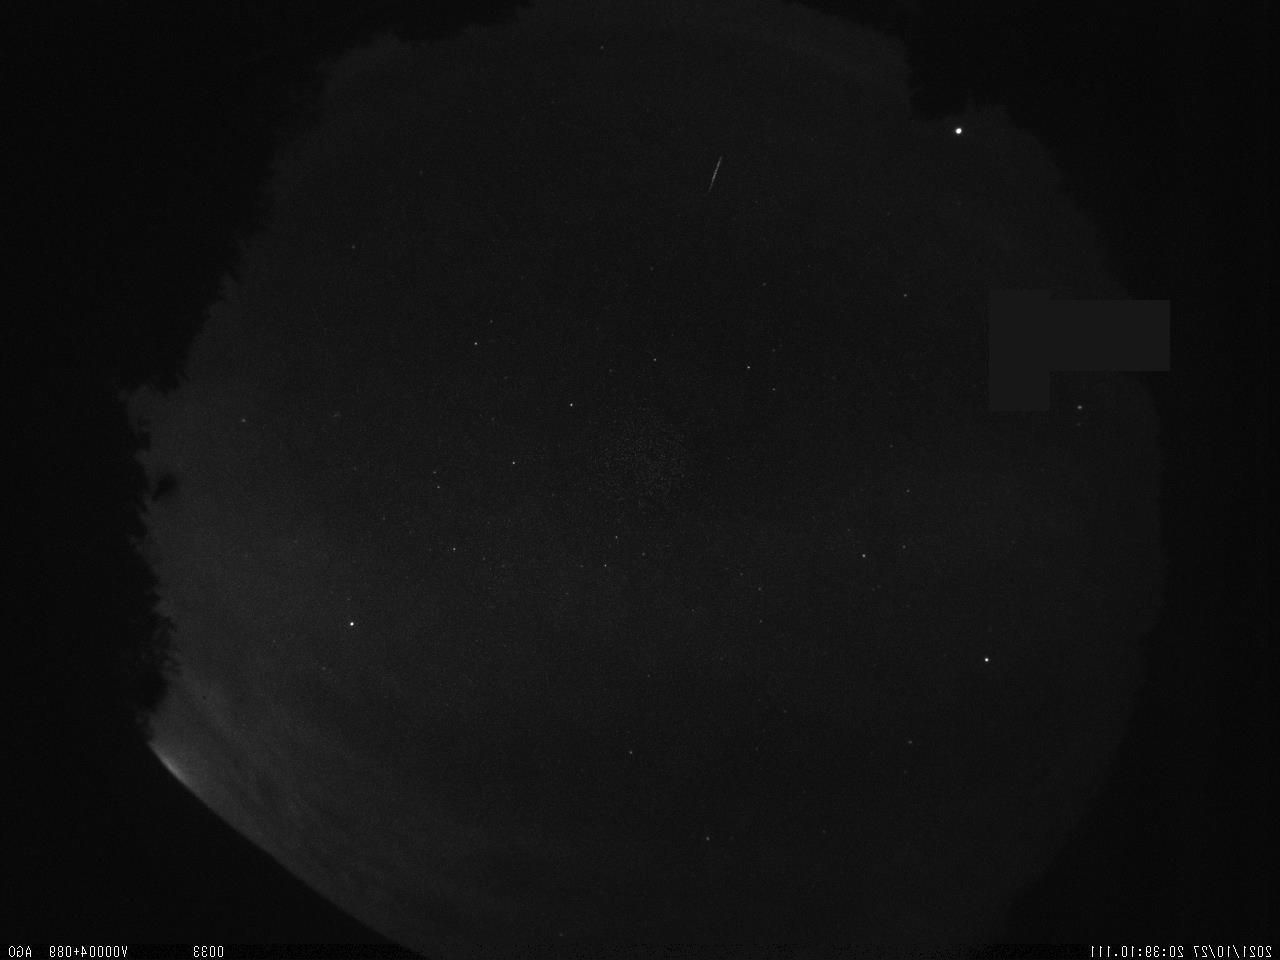meteor: (699, 152, 732, 199)
